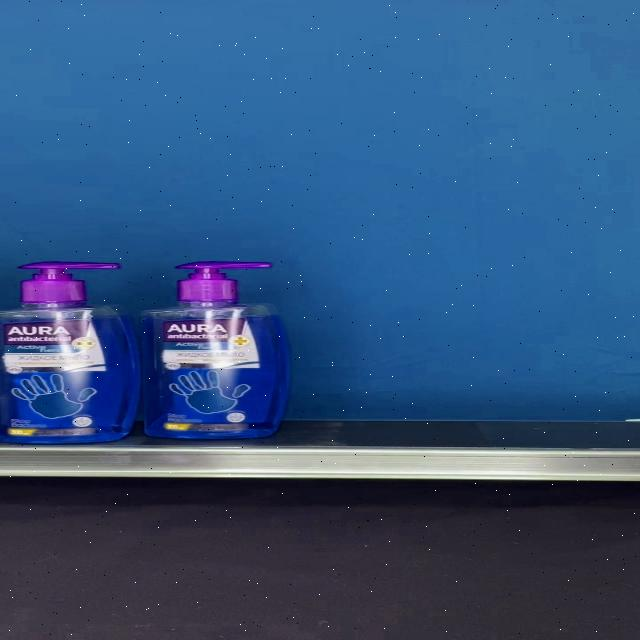Bottle: (140, 261, 289, 438), (0, 262, 140, 444)
Cap: (20, 262, 118, 302), (175, 261, 270, 301)
